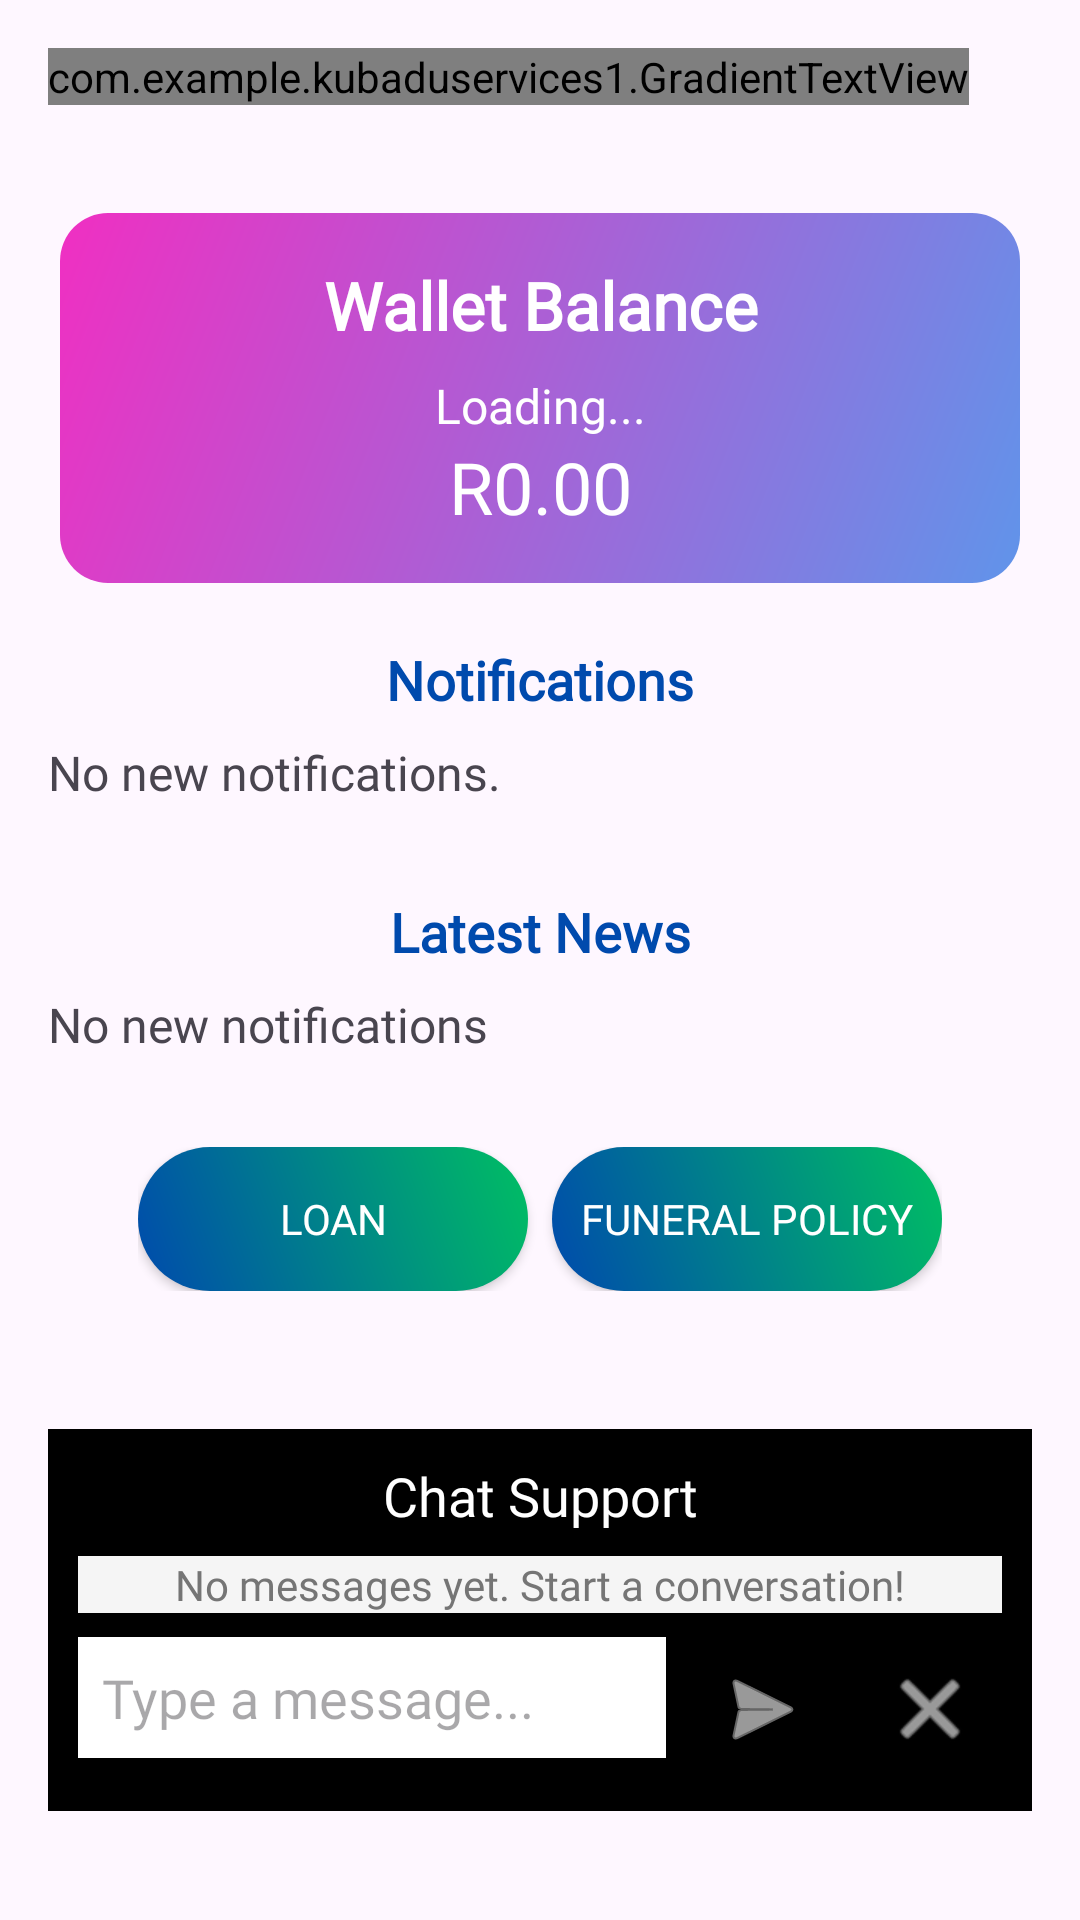

Icons on this 1080w x 1920h Android screen, each with its box as (x1, y1, x2, y2):
Send message: (732, 1679, 794, 1740)
